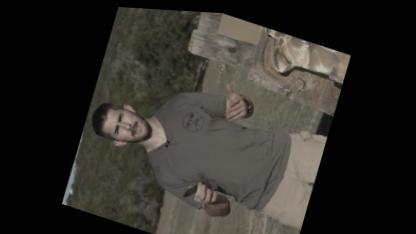knife: (178, 172, 209, 204)
